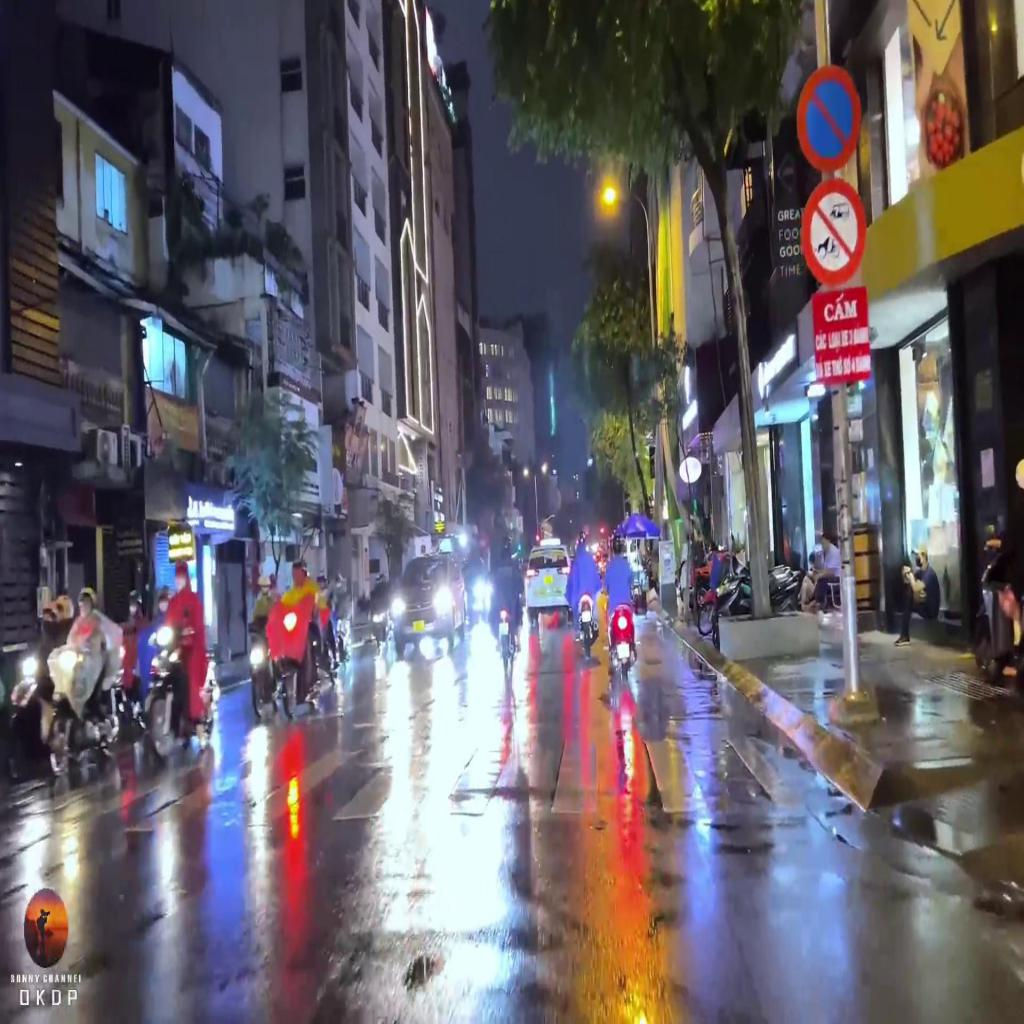cam_cac_loai_xe_3_banh: (801, 178, 866, 284)
cam_do_xe: (796, 64, 861, 172)
